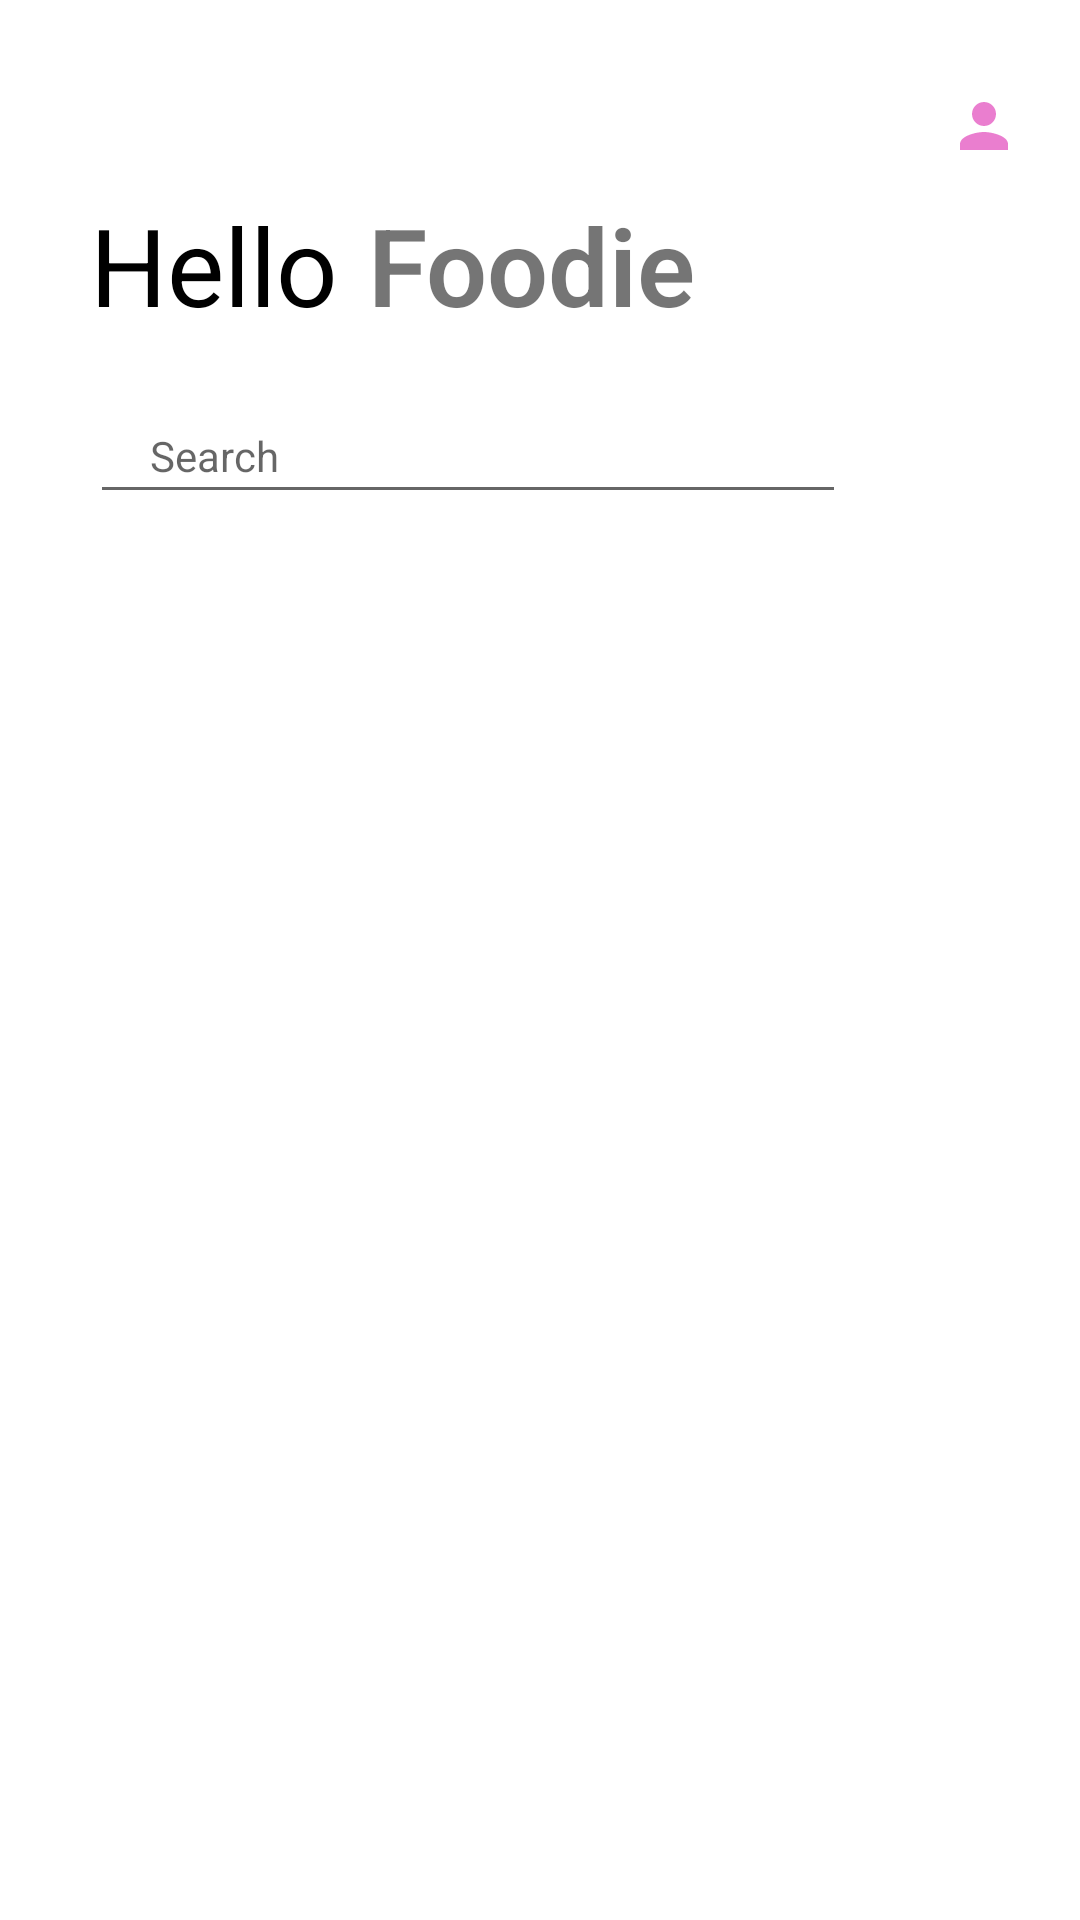

Where to tap for icons on this 1080x1920 app screen, as [x,y]:
person: [984,126]
